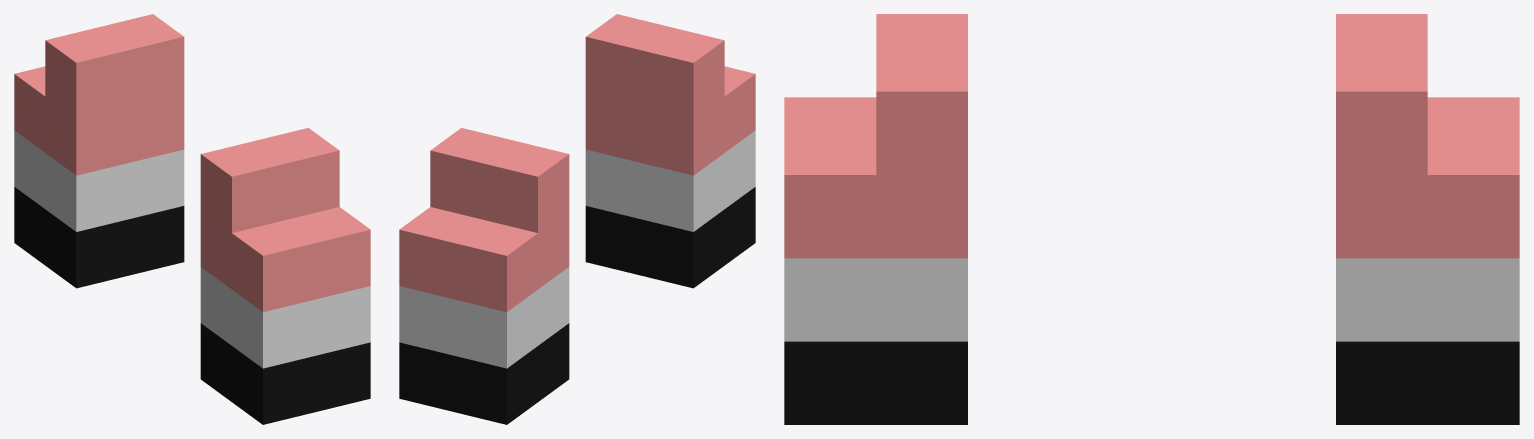
The model's file is perso1b-0.obj.
3 renders of one model, left to right at view 1: azimuth 30°, elevation 25°; view 2: azimuth 150°, elevation 25°; view 3: azimuth 270°, elevation 25°, orthographic. The views are drawn at different scales.
Bounding box in the file's own units: 0.2 × 0.4 × 0.8.
1 material, 1 textured.
